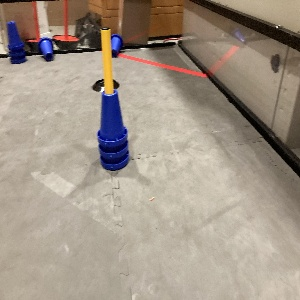Blue_3: (93, 88, 130, 168)
